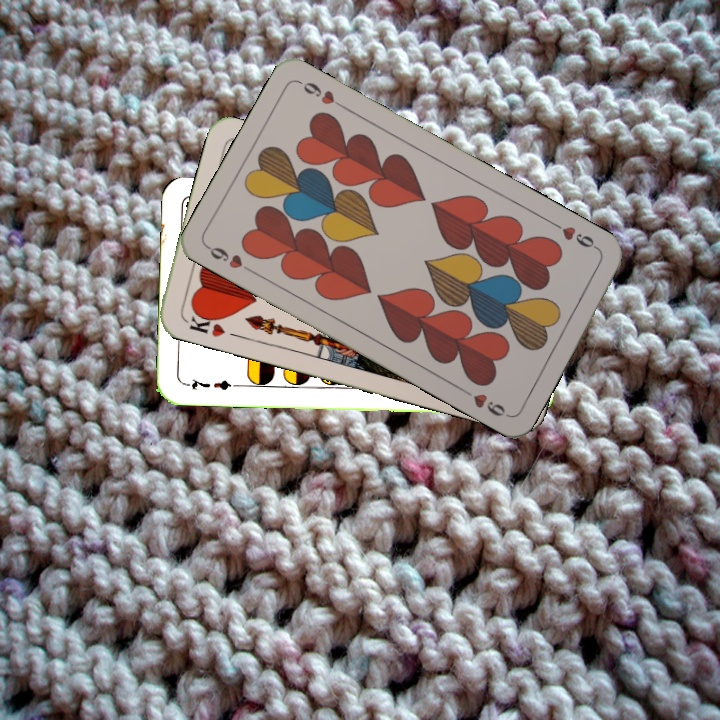E7: (181, 374, 240, 393)
H9: (548, 218, 603, 253), (202, 242, 257, 276)
HK: (181, 306, 228, 340)
